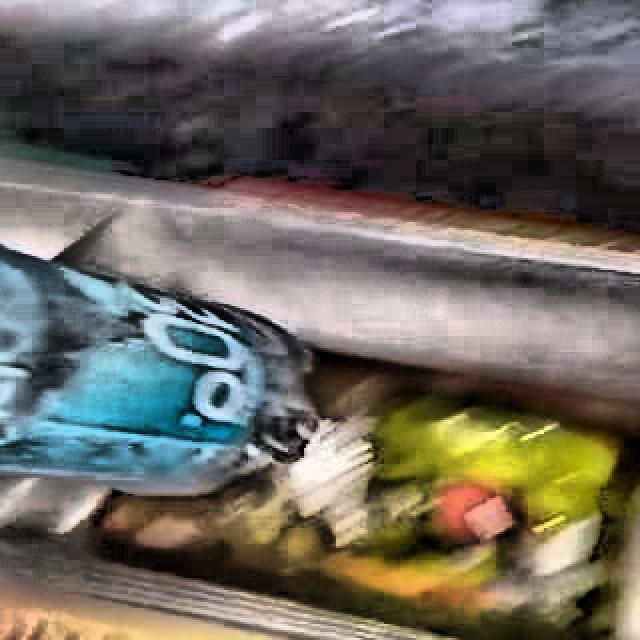plastic: (0, 248, 312, 493)
